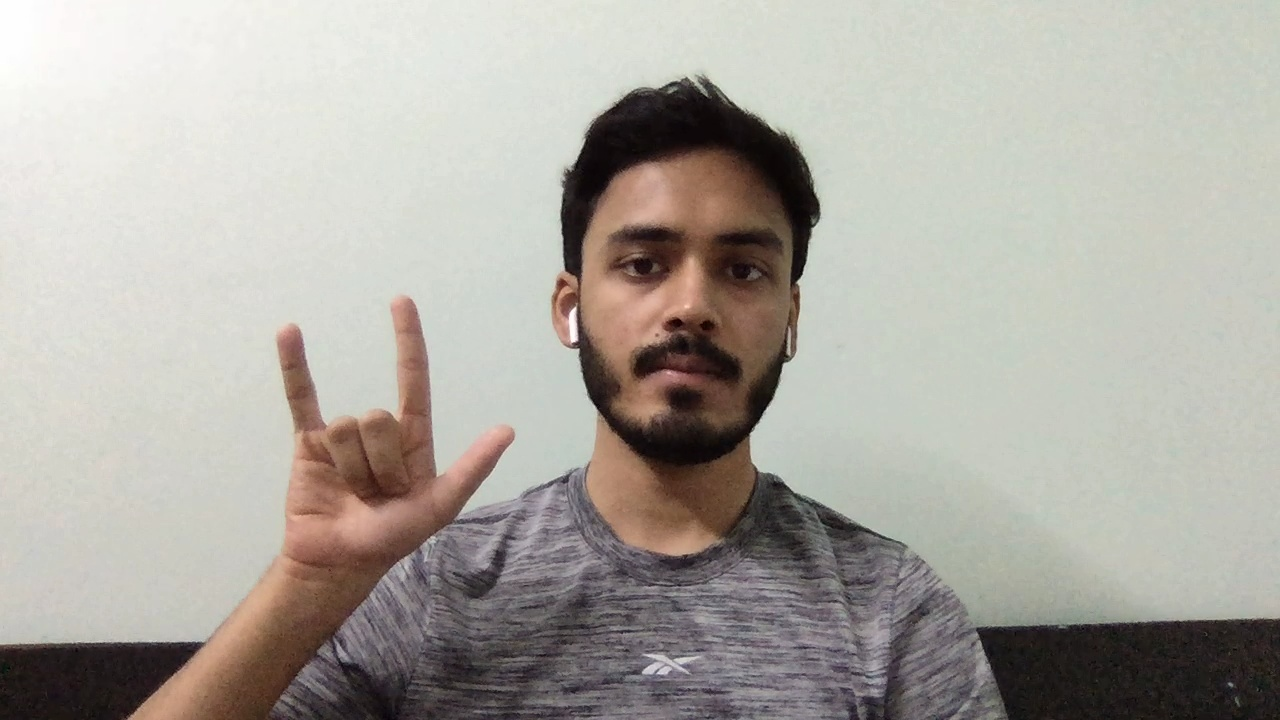I Love You: (249, 286, 531, 573)
